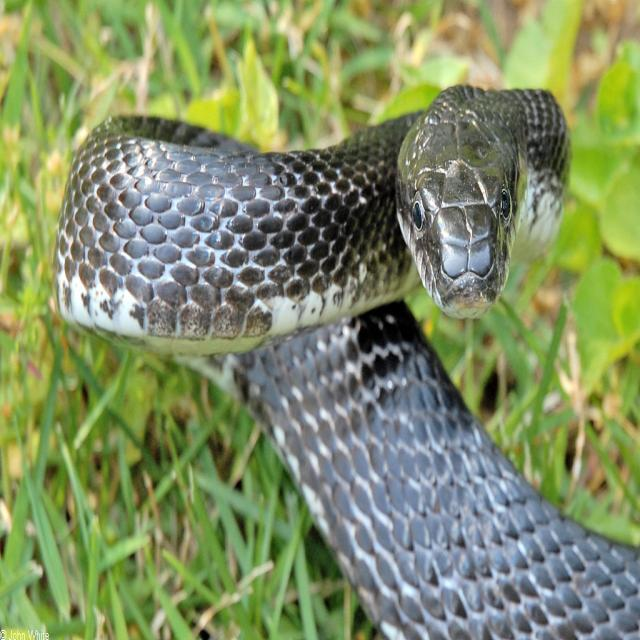Snake: (55, 65, 640, 638)
